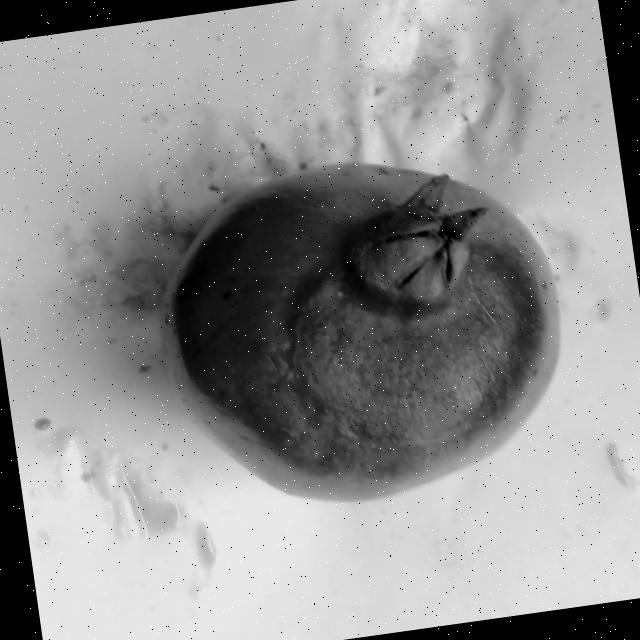Rotten: (131, 130, 586, 534)
